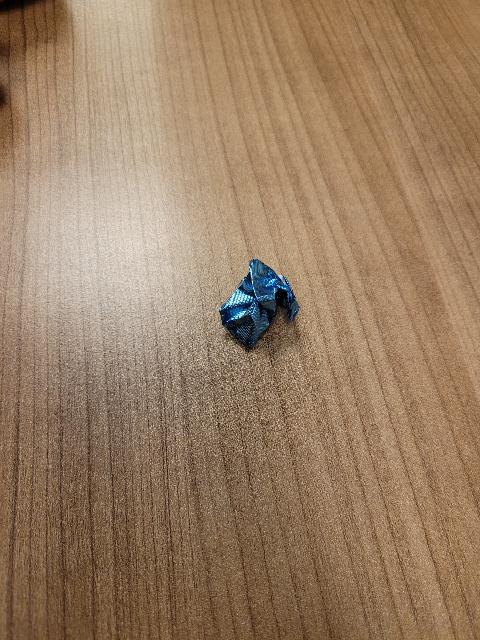Kagit: (214, 254, 298, 352)
